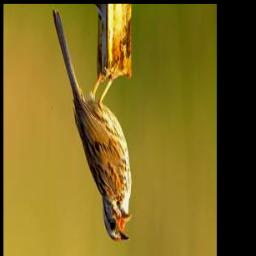Sparrow: (51, 11, 132, 245)
